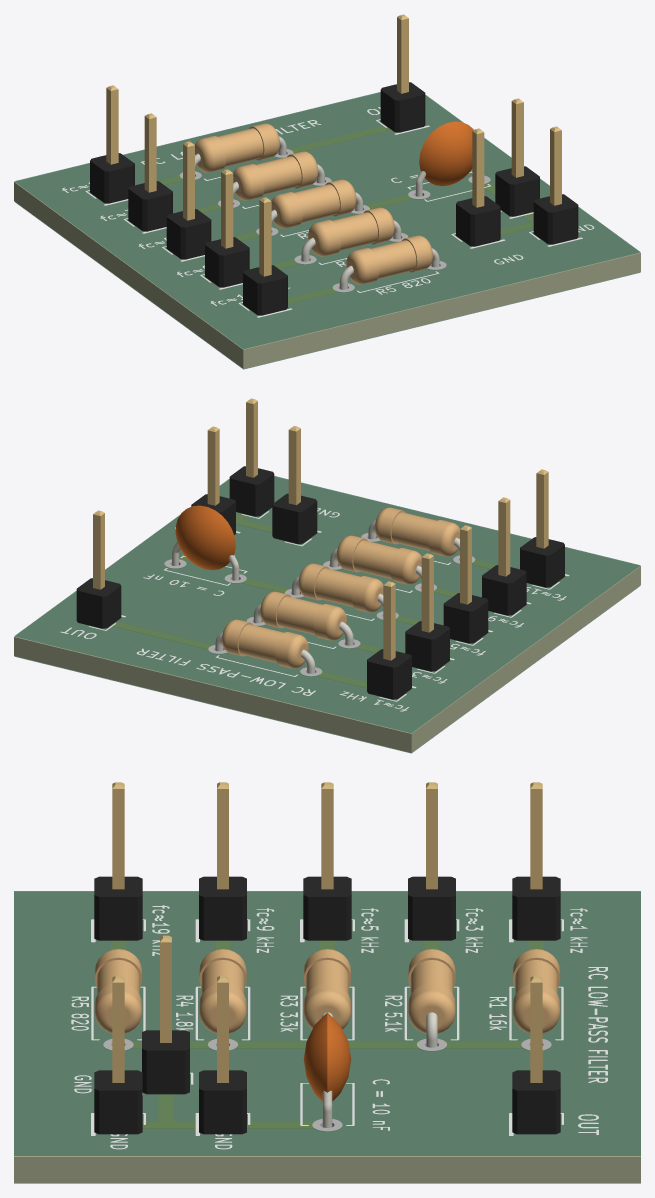
The model's file is pcb-3d.glb.
The picture shows the model from 3 angles, top to bottom: view 1: azimuth 30°, elevation 25°; view 2: azimuth 150°, elevation 25°; view 3: azimuth 270°, elevation 25°; orthographic projection. The views are drawn at different scales.
Parts seen in each view (by area): view 1: =>[0:1:1:13], =>[0:1:1:11], =>[0:1:1:3] (×9), =>[0:1:1:5] (×5), =>[0:1:1:7], =>[0:1:1:10], =>[0:1:1:8], =>[0:1:1:9], =>[0:1:1:12]; view 2: =>[0:1:1:13], =>[0:1:1:11], =>[0:1:1:3] (×9), =>[0:1:1:5] (×5), =>[0:1:1:7], =>[0:1:1:10], =>[0:1:1:8], =>[0:1:1:9], =>[0:1:1:12]; view 3: =>[0:1:1:13], =>[0:1:1:11], =>[0:1:1:3] (×9), =>[0:1:1:5] (×5), =>[0:1:1:10], =>[0:1:1:7], =>[0:1:1:8], =>[0:1:1:9], =>[0:1:1:12].
Boxes of the visible parts, box(x1,y1,x2,y2) form: =>[0:1:1:13]: box(14, 93, 640, 368); =>[0:1:1:11]: box(14, 92, 640, 349); =>[0:1:1:3] (×9): box(90, 14, 578, 315); =>[0:1:1:5] (×5): box(195, 123, 439, 289); =>[0:1:1:7]: box(415, 121, 473, 196); =>[0:1:1:10]: box(62, 107, 594, 317); =>[0:1:1:8]: box(160, 126, 532, 303); =>[0:1:1:9]: box(179, 149, 490, 292); =>[0:1:1:12]: box(14, 201, 640, 369); =>[0:1:1:13]: box(14, 477, 640, 752); =>[0:1:1:11]: box(14, 476, 640, 733); =>[0:1:1:3] (×9): box(76, 398, 564, 699); =>[0:1:1:5] (×5): box(215, 507, 459, 673); =>[0:1:1:7]: box(172, 505, 239, 580); =>[0:1:1:10]: box(60, 508, 569, 711); =>[0:1:1:8]: box(114, 513, 494, 687); =>[0:1:1:9]: box(164, 533, 475, 676); =>[0:1:1:12]: box(14, 585, 640, 753); =>[0:1:1:13]: box(14, 892, 640, 1182); =>[0:1:1:11]: box(14, 891, 640, 1155); =>[0:1:1:3] (×9): box(94, 782, 560, 1134); =>[0:1:1:5] (×5): box(94, 949, 560, 1047); =>[0:1:1:10]: box(71, 905, 607, 1149); =>[0:1:1:7]: box(303, 1012, 351, 1127); =>[0:1:1:8]: box(111, 941, 543, 1128); =>[0:1:1:9]: box(103, 1039, 551, 1131); =>[0:1:1:12]: box(14, 1183, 640, 1183).
Bounding box in the file's own units: 0.033 × 0.0115 × 0.033.
